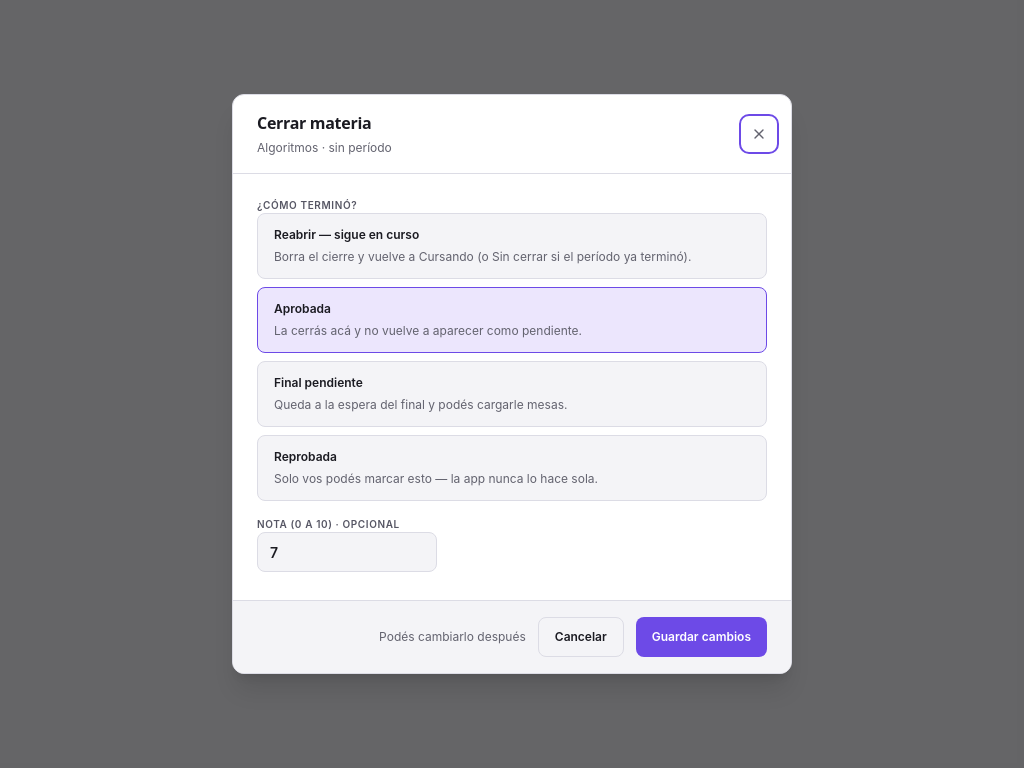
Scenario: CerrarMateriaModal — stored-nota erasure warning › warns, naming the stored nota, when "Final pendiente" is selected on a graded subject
The image size is (1024, 768).
Click the button "Final pendiente".
click(512, 394)  # box [257,361,767,427]
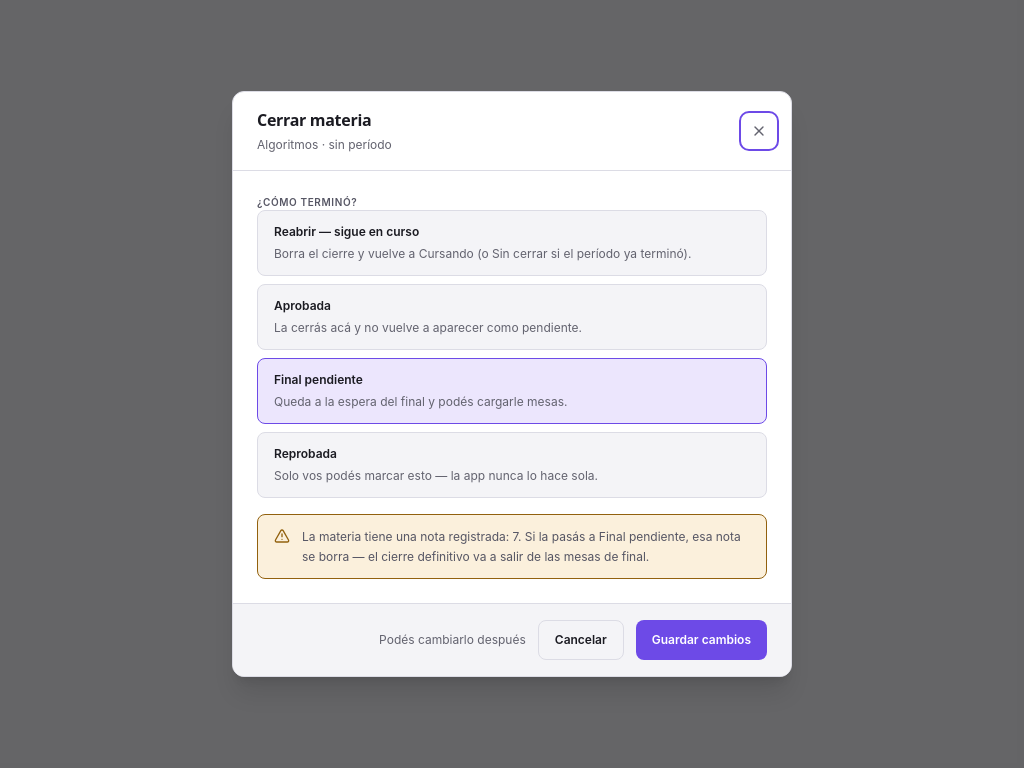
Check: the text "La materia tiene una nota registrada: 7. Si la pasás a Final pendiente, esa nota se borra — el cierre definitivo va a sa" is shown, box [302,529,741,564]
